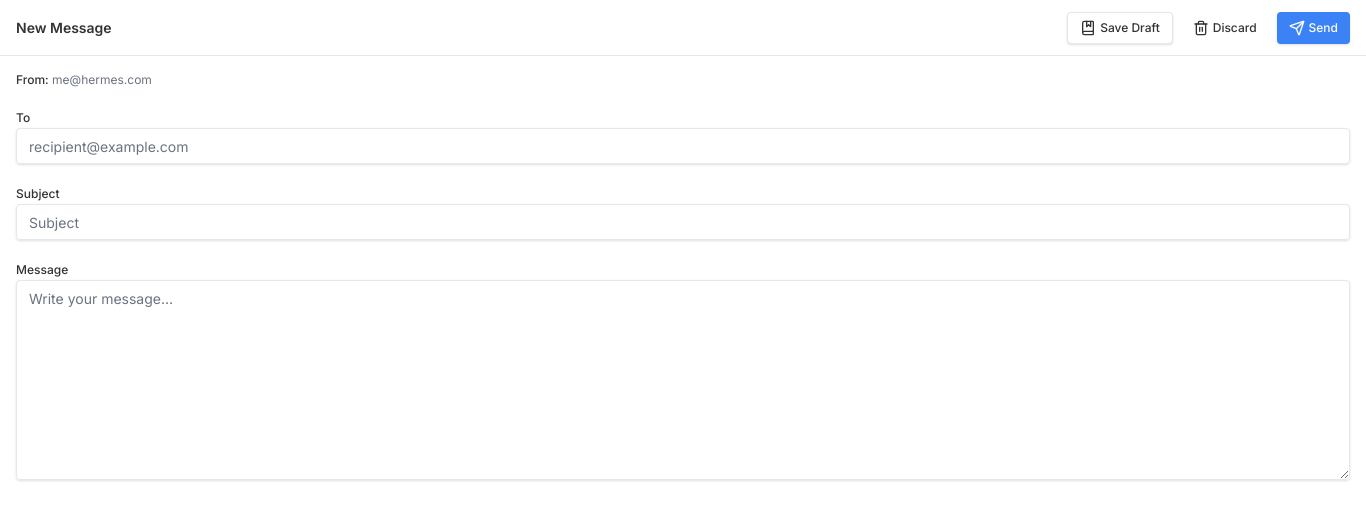
it: ComposeEditor › Send › shows error when To is empty on send
What coordinates should you click on to do the following:
click the button with test id "compose-send-button"
I would click on:
 (1313, 28)
Its box is [1277, 12, 1350, 44].
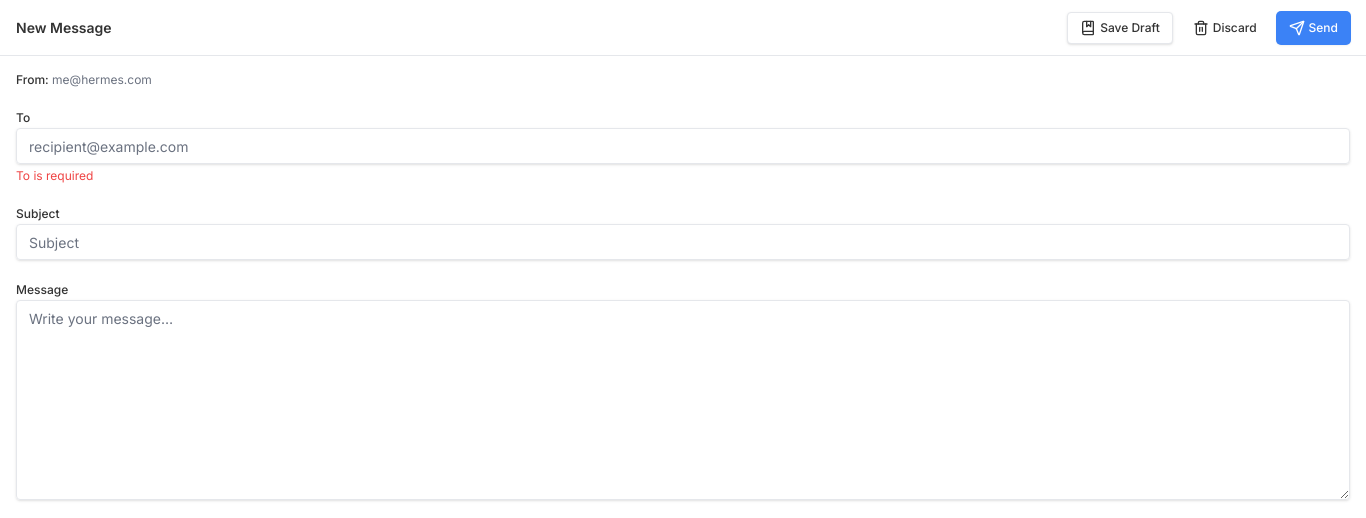
expect the message "To is required" is shown: met, box [16, 168, 93, 183]
